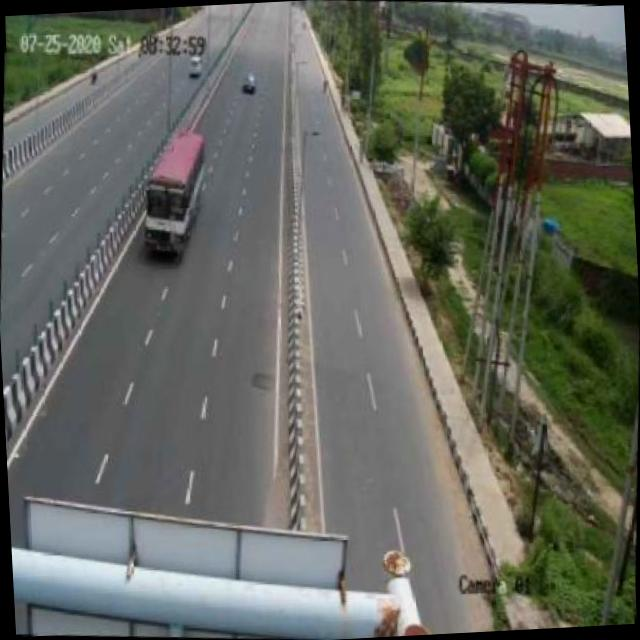car: (239, 64, 264, 101)
